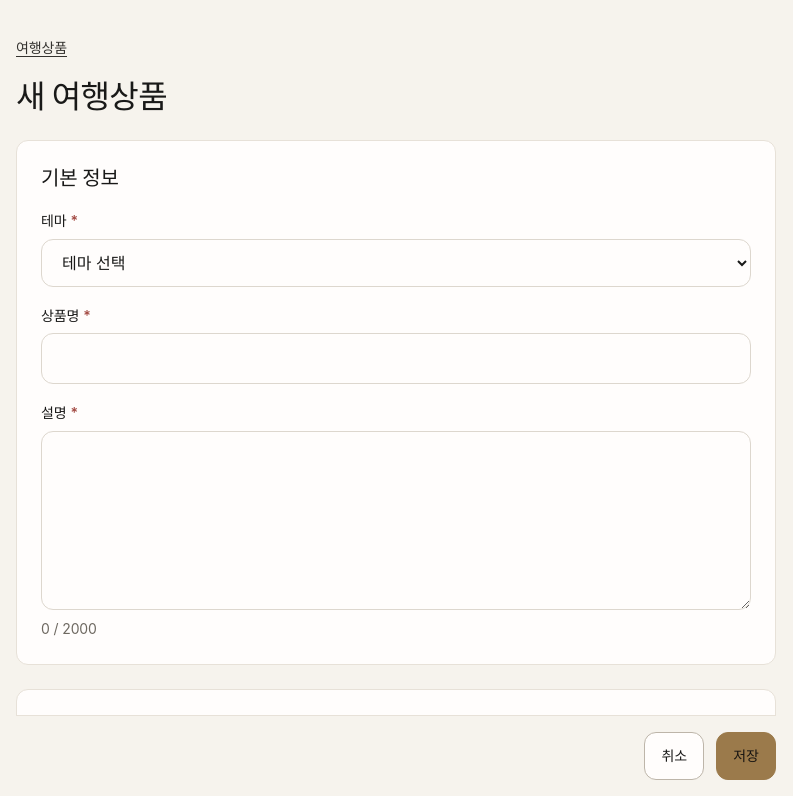
Test: E03 product create › shows exactly the price fields the selected Theme allows and keeps hidden values
This screenshot has width=793, height=796.
Select "Golf Challenge" in the dropdown labelled "테마 *" at (396, 263), box [41,239,751,287]
(page scrolled)
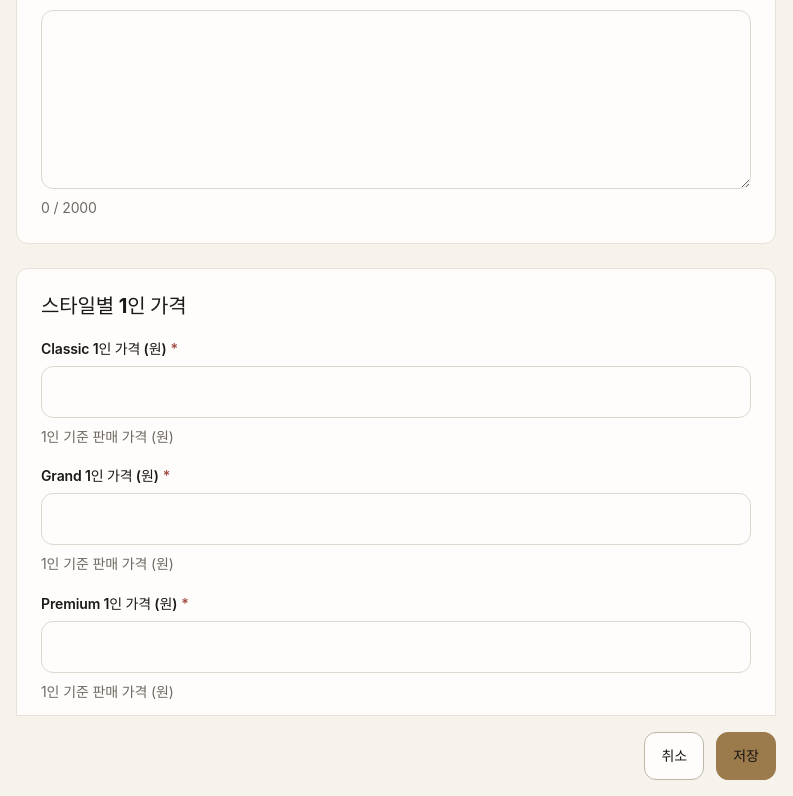
Type "890000" into the field labelled "Classic 1인 가격 (원) *" at (396, 392), box [41,366,751,418]
(page scrolled)
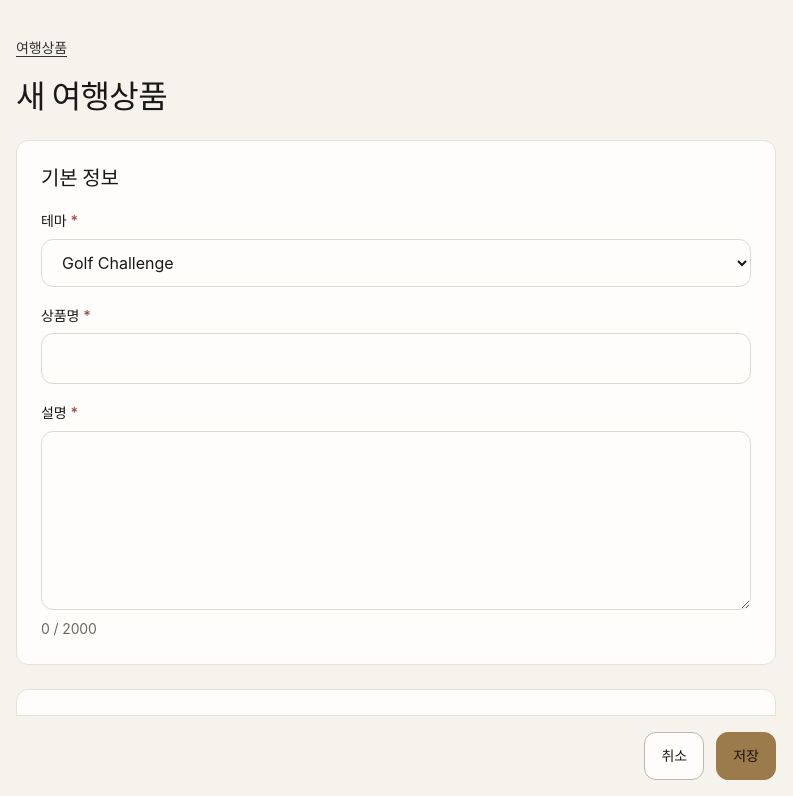
Select "Honeymoon Romance" in the dropdown labelled "테마 *" at (396, 263), box [41,239,751,287]
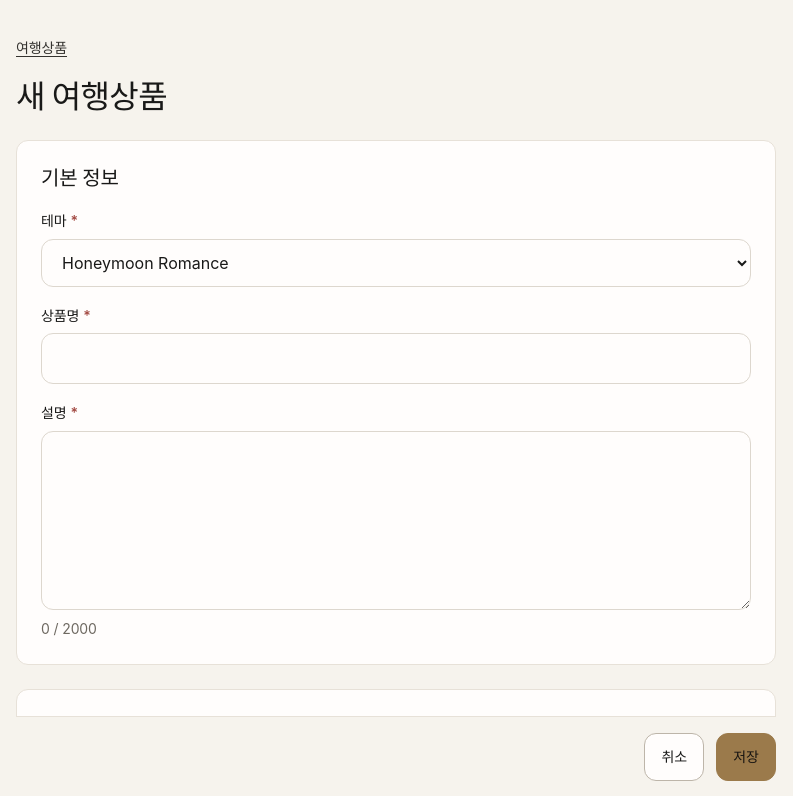
Check: the text labelled "Classic 1인 가격" is not shown
Select "Golf Challenge" in the dropdown labelled "테마 *" at (396, 263), box [41,239,751,287]
(page scrolled)
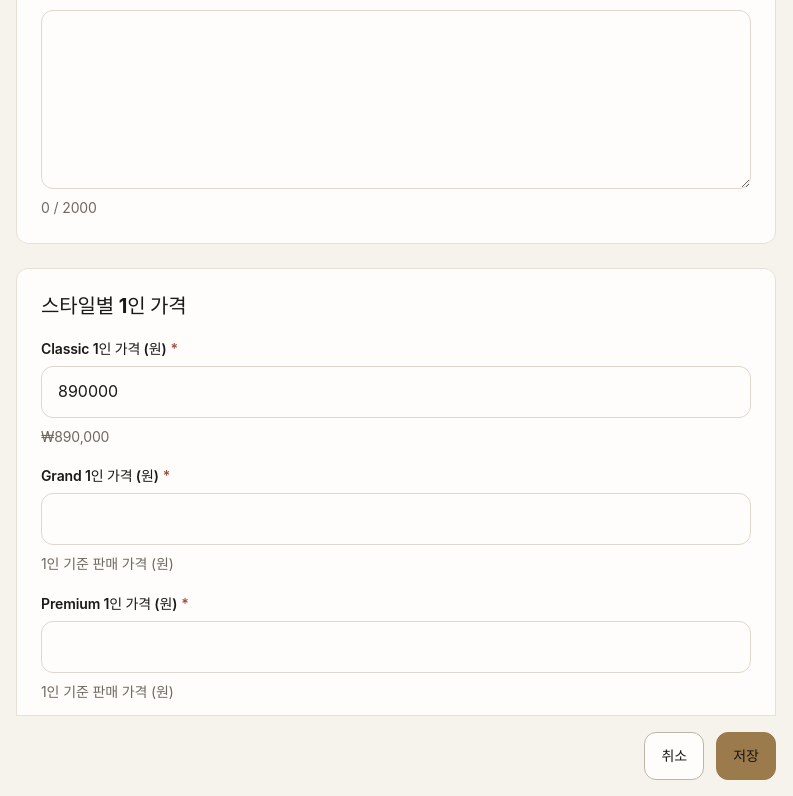
Check: the field labelled "Classic 1인 가격 (원) *" holds "890000", box [41,366,751,418]
